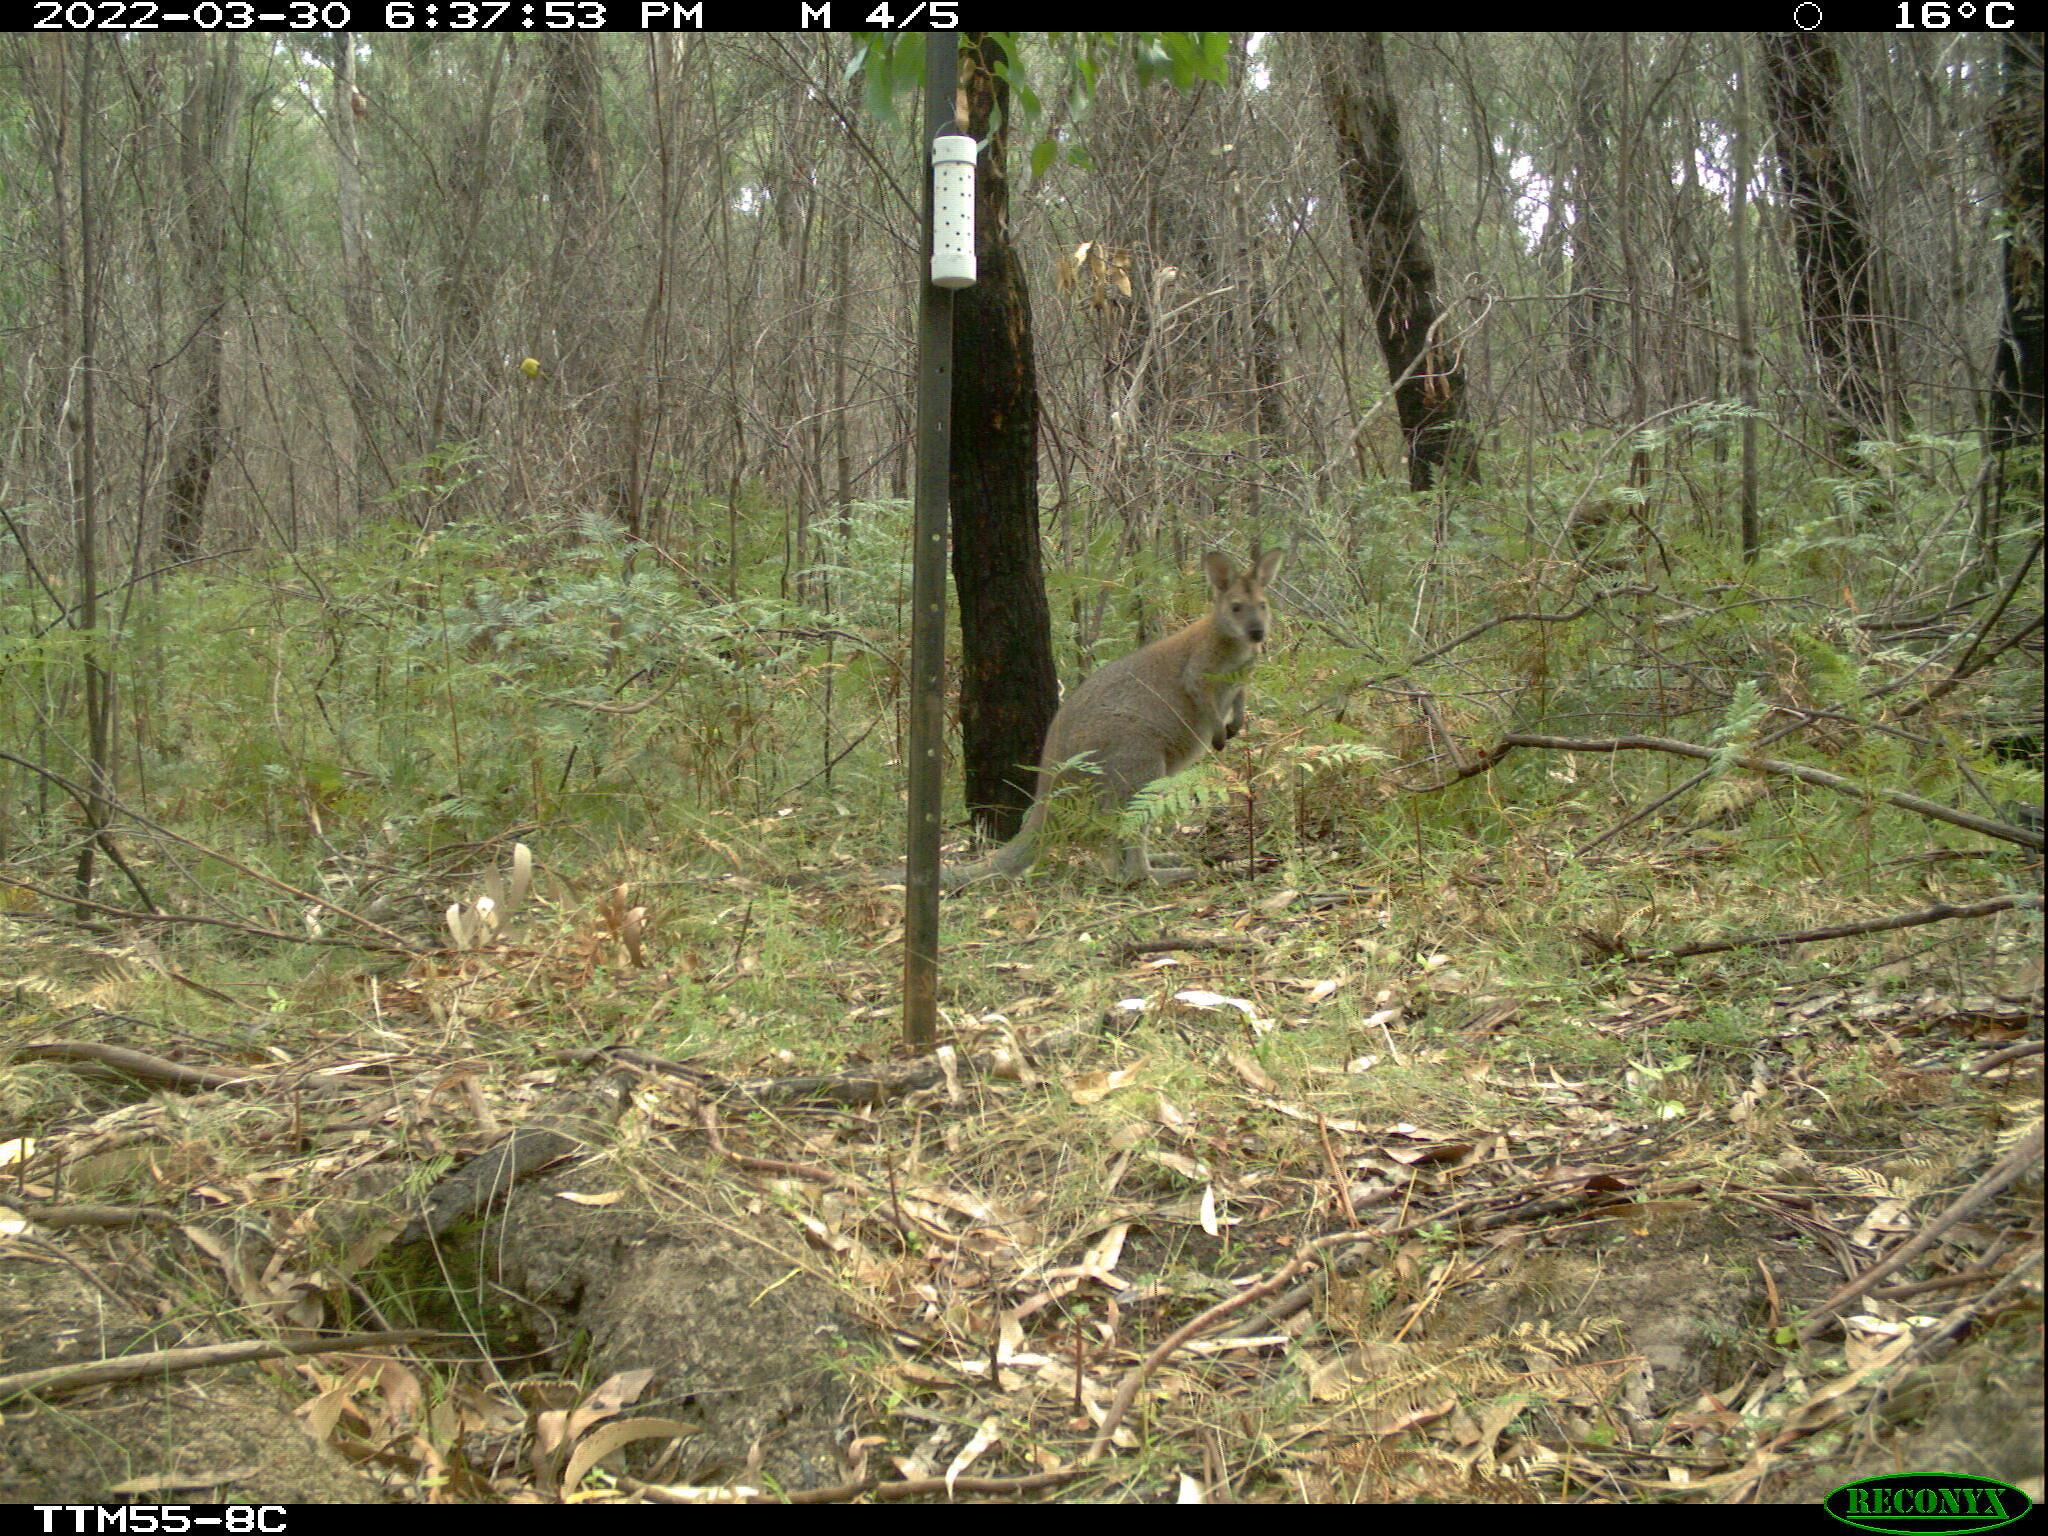Red-necked wallaby: (771, 545, 1285, 894)
